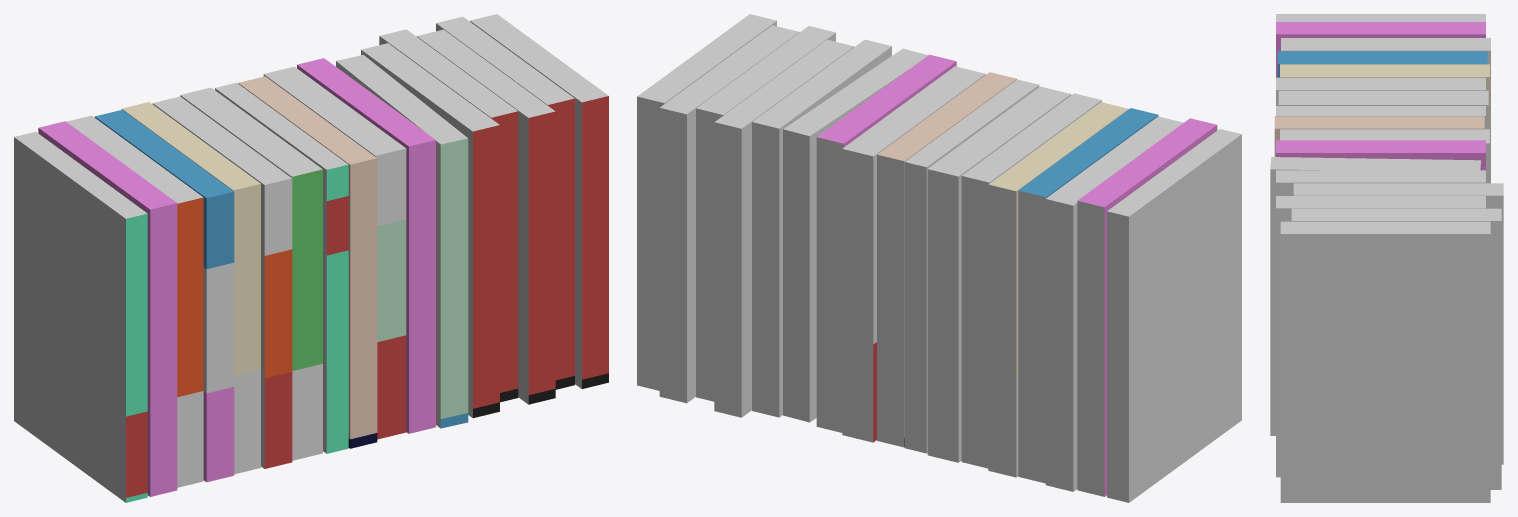
The model's file is Book_B.glb.
3 views of the same model, side by side, from view 1: azimuth 30°, elevation 25°; view 2: azimuth 150°, elevation 25°; view 3: azimuth 270°, elevation 25° (orthographic). The views are drawn at different scales.
Visible parts, largest first — view 1: Cube.029, Cube.016, Cube.018, Cube.015, Cube.013, Cube.028, Cube.023, Cube.024, Cube.026, Cube.020, Cube.019, Cube.021 (+5 smaller); view 2: Cube.029, Cube.017, Cube.014, Cube.023, Cube.020, Cube.013, Cube.018, Cube.028, Cube.027, Cube.025, Cube.019, Cube.024 (+5 smaller); view 3: Cube.015, Cube.014, Cube.013, Cube.016, Cube.019, Cube.017, Cube.028, Cube.023, Cube.018, Cube.027, Cube.025, Cube.021 (+5 smaller).
Boxes of the visible parts, bbox=[...] form: Cube.029: bbox=[14, 131, 147, 502]; Cube.016: bbox=[416, 29, 555, 404]; Cube.018: bbox=[361, 43, 499, 418]; Cube.015: bbox=[470, 14, 608, 388]; Cube.013: bbox=[336, 55, 468, 428]; Cube.028: bbox=[38, 121, 177, 496]; Cube.023: bbox=[180, 87, 322, 460]; Cube.024: bbox=[152, 96, 292, 468]; Cube.026: bbox=[94, 110, 234, 482]; Cube.020: bbox=[263, 66, 406, 439]; Cube.019: bbox=[297, 58, 435, 433]; Cube.021: bbox=[238, 76, 377, 448]; Cube.029: bbox=[1107, 129, 1241, 502]; Cube.017: bbox=[714, 39, 854, 417]; Cube.014: bbox=[659, 25, 799, 403]; Cube.023: bbox=[927, 86, 1071, 462]; Cube.020: bbox=[842, 66, 985, 442]; Cube.013: bbox=[783, 48, 927, 422]; Cube.018: bbox=[752, 39, 891, 417]; Cube.028: bbox=[1077, 118, 1217, 496]; Cube.027: bbox=[1045, 116, 1183, 491]; Cube.025: bbox=[988, 102, 1128, 477]; Cube.019: bbox=[816, 54, 956, 432]; Cube.024: bbox=[961, 93, 1101, 468]; Cube.015: bbox=[1280, 221, 1490, 502]; Cube.014: bbox=[1291, 208, 1501, 489]; Cube.013: bbox=[1270, 157, 1480, 435]; Cube.016: bbox=[1276, 196, 1485, 477]; Cube.019: bbox=[1276, 140, 1485, 170]; Cube.017: bbox=[1293, 183, 1503, 464]; Cube.028: bbox=[1276, 22, 1485, 77]; Cube.023: bbox=[1278, 90, 1488, 129]; Cube.018: bbox=[1276, 170, 1485, 195]; Cube.027: bbox=[1281, 38, 1490, 183]; Cube.025: bbox=[1280, 64, 1489, 129]; Cube.021: bbox=[1274, 116, 1484, 156].
Bounding box in the file's own units: 0.9825 × 0.5557 × 0.4361.
